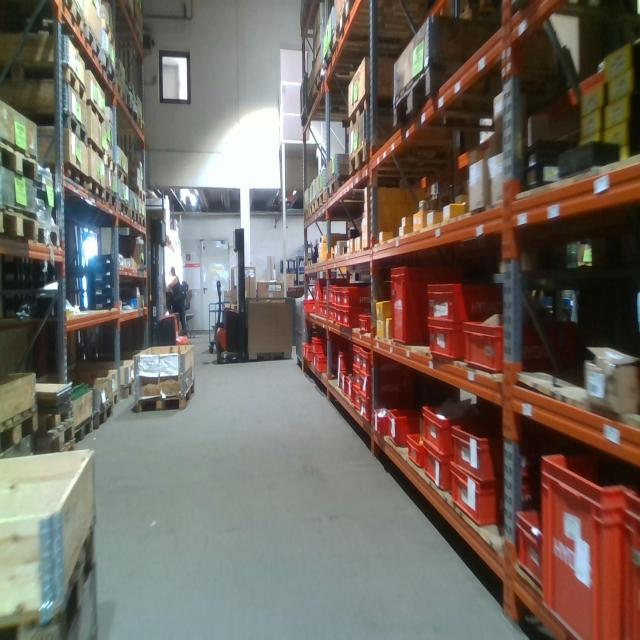pallet: (2, 515, 97, 638), (393, 59, 443, 137), (2, 63, 87, 104), (11, 1, 86, 40), (348, 134, 403, 179), (21, 115, 89, 146), (135, 379, 194, 414), (347, 92, 398, 130), (1, 403, 39, 450), (2, 136, 38, 183), (33, 402, 73, 439), (1, 210, 38, 247), (332, 0, 360, 47), (38, 423, 74, 458), (73, 27, 103, 67), (38, 165, 85, 189), (89, 399, 113, 434), (35, 221, 60, 249), (70, 419, 95, 446), (84, 97, 105, 129), (106, 81, 127, 111), (321, 38, 339, 73), (326, 180, 348, 205), (119, 100, 136, 130), (82, 180, 104, 201), (89, 138, 105, 166), (312, 70, 326, 102), (102, 19, 116, 50), (101, 62, 116, 89), (102, 191, 118, 215), (111, 201, 130, 219), (316, 189, 327, 216), (105, 389, 120, 408), (104, 154, 116, 174), (131, 188, 147, 203), (117, 165, 127, 186), (129, 210, 139, 228), (138, 112, 144, 136), (302, 211, 309, 229), (312, 201, 316, 224), (139, 217, 147, 226)
pallet_truck: (149, 215, 191, 354), (214, 219, 247, 366)
small_load_carrier: (539, 445, 622, 637), (392, 265, 462, 345), (447, 421, 535, 479), (447, 461, 524, 527), (462, 320, 549, 369), (425, 281, 502, 329), (514, 495, 542, 597), (623, 484, 639, 638), (422, 397, 451, 455), (423, 443, 453, 499), (426, 325, 464, 365), (313, 280, 348, 322), (360, 372, 411, 398), (389, 409, 421, 448), (361, 351, 412, 375), (339, 285, 390, 307), (406, 431, 426, 475), (310, 338, 346, 357), (358, 312, 376, 343), (343, 308, 366, 332), (360, 397, 380, 422), (317, 357, 342, 375), (353, 386, 368, 415), (371, 404, 385, 431), (350, 361, 363, 388), (346, 375, 357, 404), (337, 351, 348, 375), (351, 343, 362, 365), (337, 372, 347, 394), (337, 310, 344, 336), (336, 285, 343, 308), (329, 306, 336, 325), (303, 342, 311, 358), (327, 287, 333, 306), (325, 304, 331, 323), (333, 287, 338, 307), (324, 287, 329, 306), (320, 306, 326, 318), (333, 309, 337, 326)
stillage: (291, 292, 303, 370)
